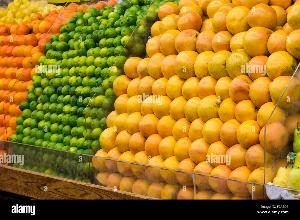lemon: (0, 0, 62, 24)
lime: (15, 0, 157, 157)
orange: (126, 0, 300, 190), (0, 1, 90, 143)
